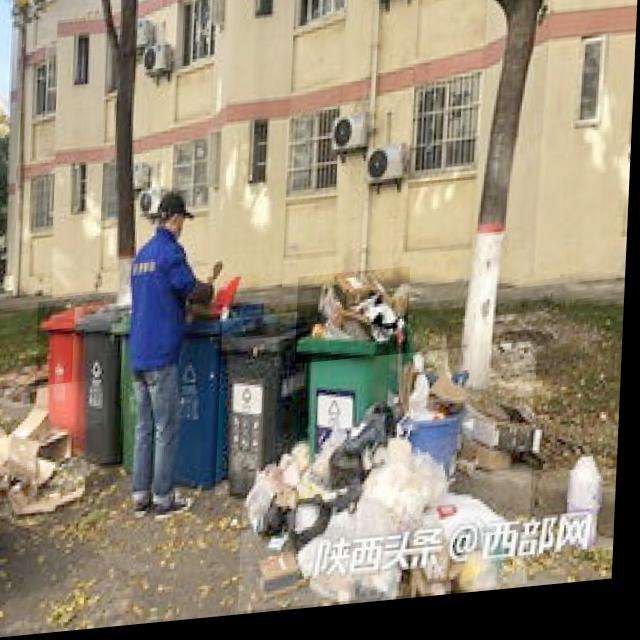garbage: (244, 352, 541, 617), (0, 383, 93, 518)
garbage_bin: (220, 317, 312, 500), (36, 298, 107, 454), (73, 305, 130, 468)
overflow: (295, 275, 414, 463), (174, 277, 264, 492)
